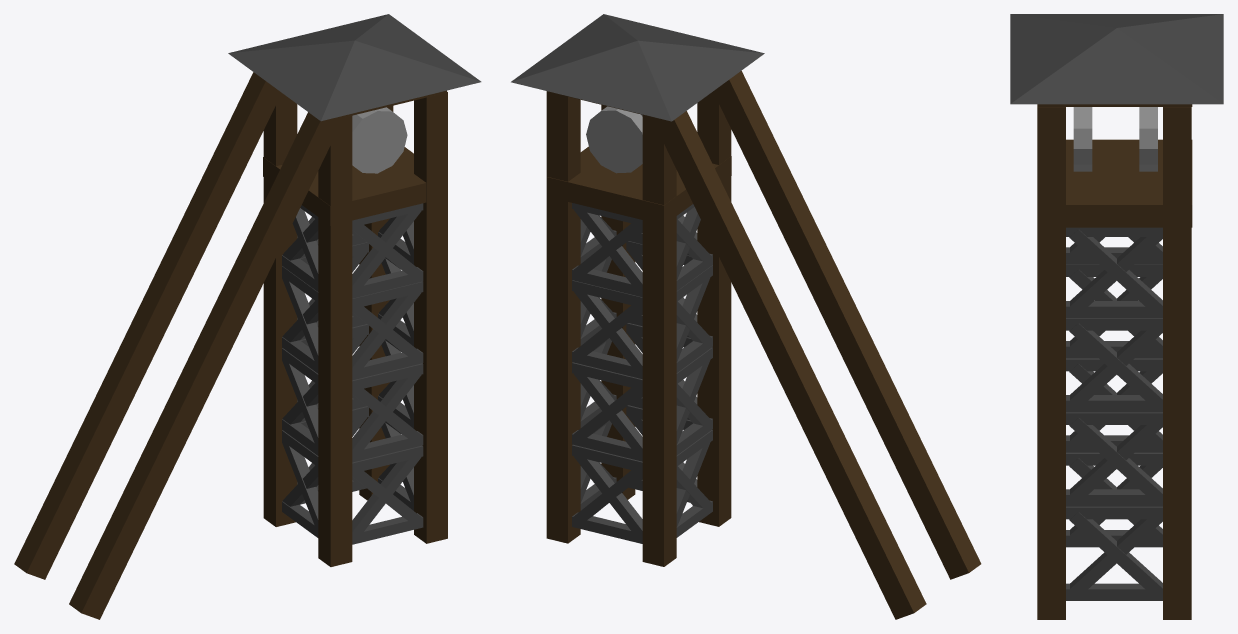
File: MiningTower.fbx
The picture shows the model from 3 angles, left to right: view 1: azimuth 30°, elevation 25°; view 2: azimuth 150°, elevation 25°; view 3: azimuth 270°, elevation 25°; orthographic projection. The views are drawn at different scales.
Visible parts, largest first — view 1: pasted__pCube200; view 2: pasted__pCube200; view 3: pasted__pCube200.
Boxes of the visible parts, <box> form: pasted__pCube200: <box>14,14,481,619</box>; pasted__pCube200: <box>511,14,981,619</box>; pasted__pCube200: <box>1010,14,1223,619</box>.
Size of the model in its own units: 2.16 by 2.58 by 0.8943.
